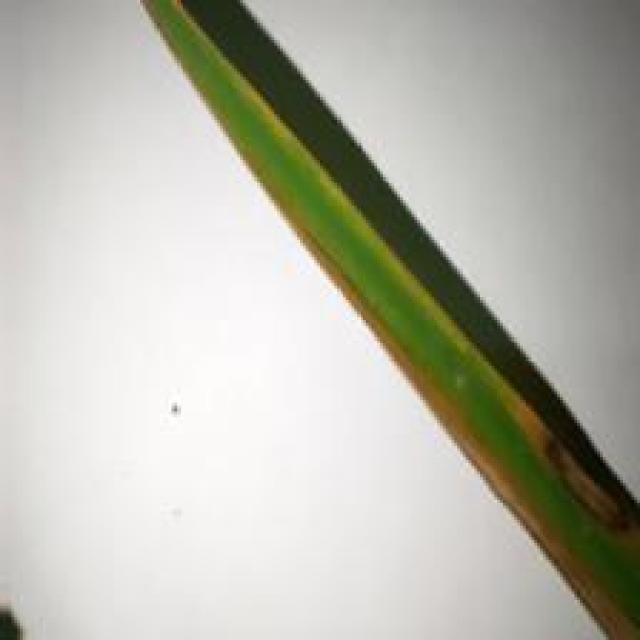Leaf_Blast: (293, 220, 637, 640), (331, 192, 640, 555)
